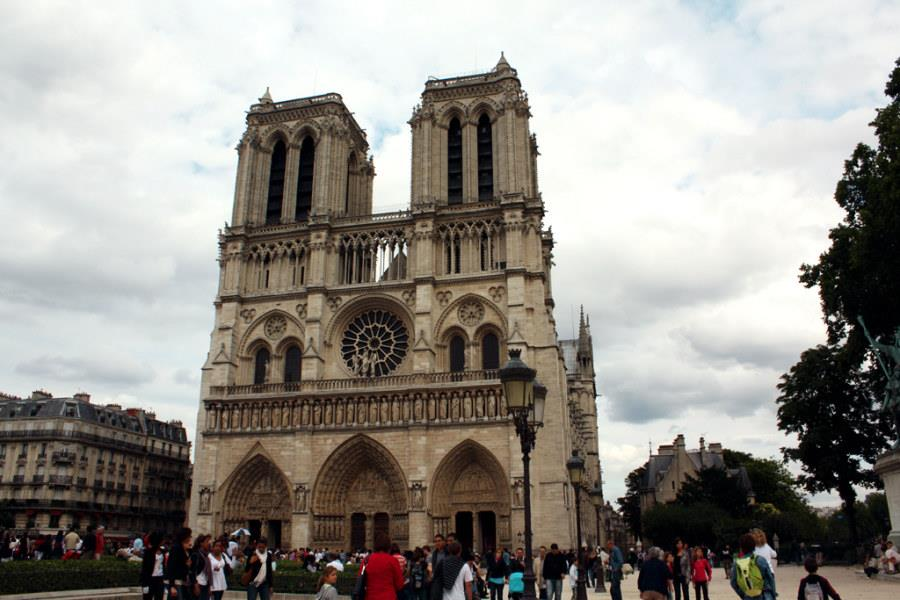Notre_Dame_de_Paris: (191, 62, 603, 559)
